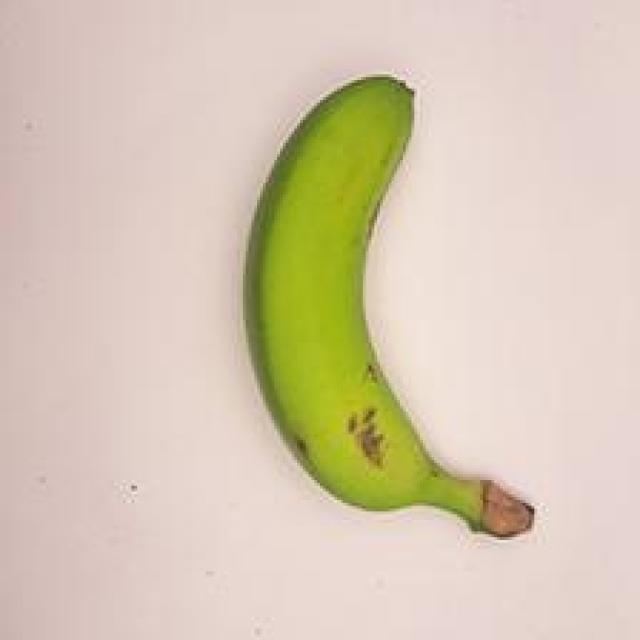Unripe: (201, 47, 569, 571)
